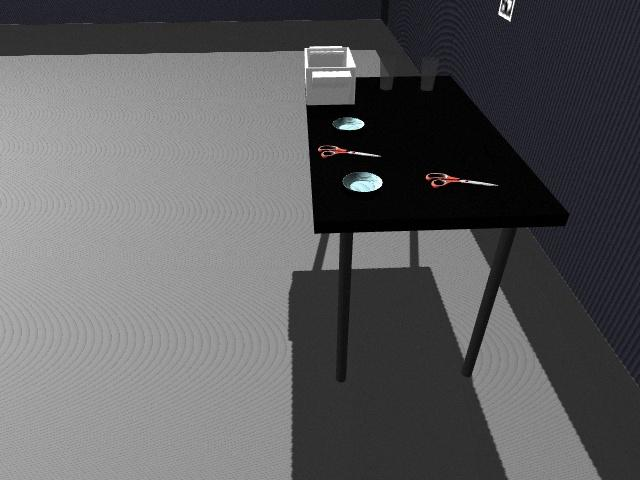cup: (420, 57, 438, 92), (378, 56, 395, 91)
plate: (342, 171, 384, 193), (331, 116, 366, 131)
scissors: (425, 170, 499, 188), (319, 145, 380, 159)
